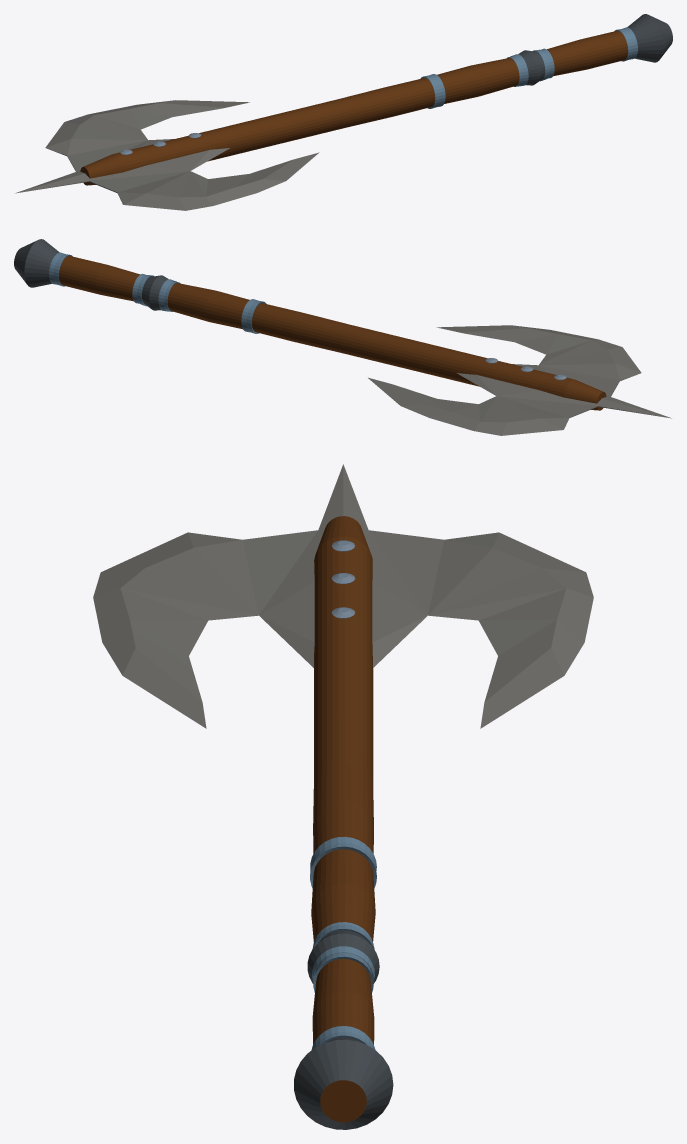
Rendered from SM_BattleAxe.fbx.
3 views of the same model, one above another, from view 1: azimuth 30°, elevation 25°; view 2: azimuth 150°, elevation 25°; view 3: azimuth 270°, elevation 25° (orthographic). The views are drawn at different scales.
Visible parts, largest first — view 1: SM_BattleAXE; view 2: SM_BattleAXE; view 3: SM_BattleAXE.
Boxes of the visible parts, x1,y1,x2,y2 form: SM_BattleAXE: [15, 14, 672, 210]; SM_BattleAXE: [14, 239, 671, 435]; SM_BattleAXE: [93, 464, 593, 1129].
Size of the model in its own units: 2.08 by 0.1375 by 0.6908.
